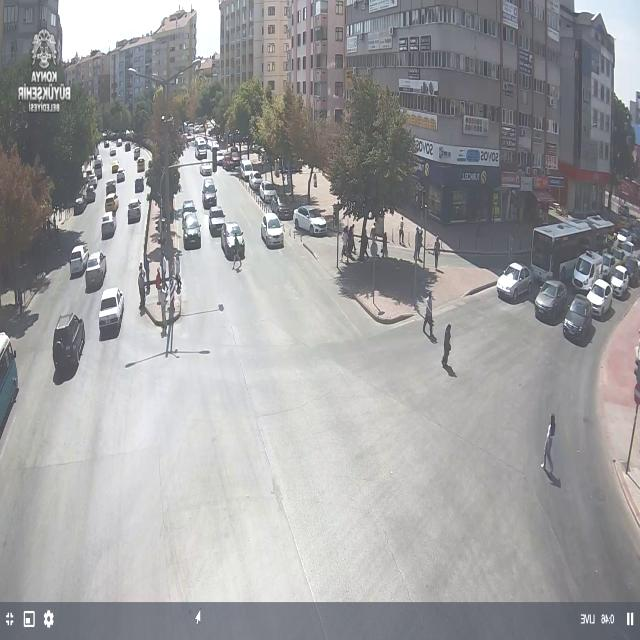Car: (0, 335, 18, 445), (52, 313, 85, 370), (497, 262, 535, 302), (534, 280, 569, 322), (563, 295, 595, 340), (97, 285, 125, 335), (572, 250, 604, 290), (294, 204, 328, 236), (586, 279, 614, 317), (221, 222, 245, 258), (261, 214, 285, 248), (85, 252, 107, 289), (608, 266, 632, 299), (182, 212, 202, 248), (69, 243, 90, 277), (208, 206, 227, 236), (621, 256, 640, 286), (598, 250, 618, 278), (271, 196, 293, 220), (259, 180, 278, 203), (101, 212, 116, 236), (128, 198, 142, 222), (248, 171, 264, 191), (182, 200, 198, 218), (105, 194, 119, 213), (74, 197, 88, 215), (105, 179, 117, 196), (85, 186, 96, 203), (200, 161, 212, 176), (134, 176, 144, 193), (87, 174, 98, 189), (116, 169, 126, 183), (94, 163, 103, 178), (137, 157, 145, 172), (94, 157, 103, 169), (112, 160, 120, 173), (134, 147, 140, 159), (110, 146, 116, 156), (125, 142, 131, 151), (117, 138, 122, 146), (104, 140, 109, 148)
Truck: (195, 138, 208, 159)
Van: (202, 179, 218, 207), (240, 159, 255, 182)
